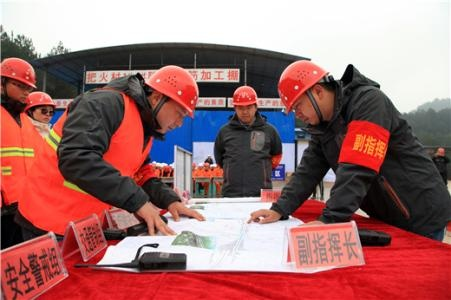red: (141, 61, 198, 136), (277, 57, 337, 125), (1, 56, 35, 103), (25, 89, 55, 125), (231, 85, 259, 122)
